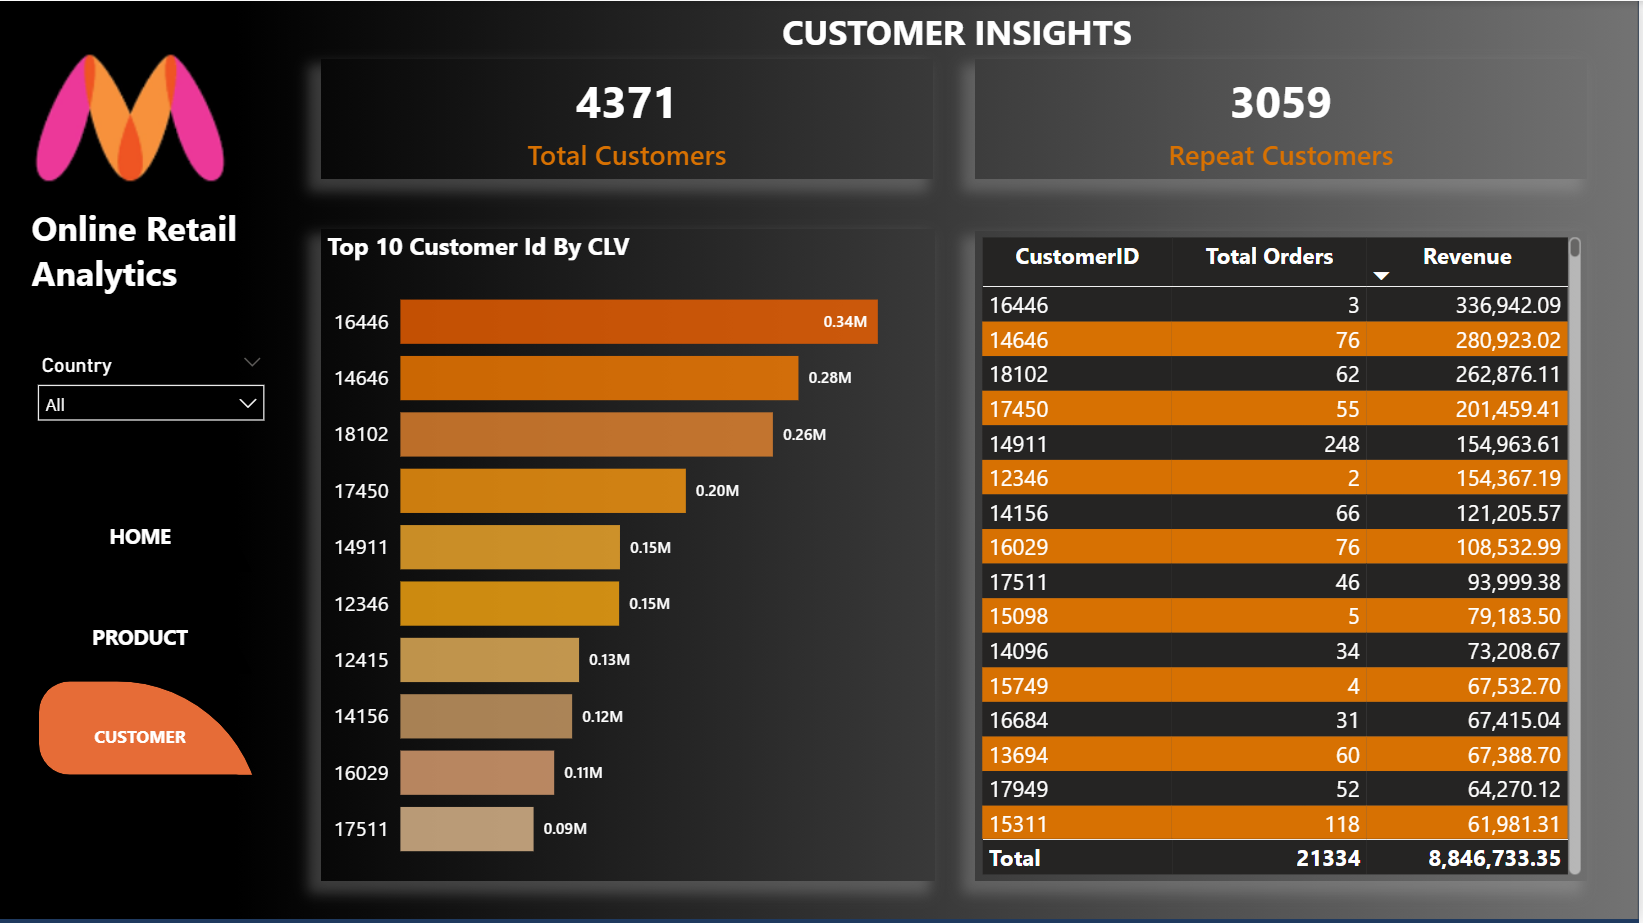

This screenshot's page, from the dashboard's own definition file:
{"tool":"powerbi","page":{"name":"CUSTOMER","canvas":[1280,720],"ordinal":2},"visuals":[{"type":"card","fields":{"Values":["MNT.Total Customers"]},"box":[251.5,45.3,477.9,93.7],"z":0},{"type":"card","fields":{"Values":["MNT.Repeat Customers"]},"box":[762.2,45.3,477.9,93.7],"z":1000},{"type":"clusteredBarChart","title":"Top 10 Customer Id  By CLV","fields":{"Category":["MNT.CustomerID"],"Y":["Sum(MNT.Sale)"]},"box":[251.5,178,479.5,509.2],"z":2000},{"type":"tableEx","title":"UK vs Non-UK Revenue","fields":{"Values":["MNT.CustomerID","MNT.Total Orders","MNT.Revenue"]},"box":[762.2,179.6,477.9,507.6],"z":3000},{"type":"slicer","fields":{"Values":["MNT.Country"]},"box":[20.3,270.2,196.8,64],"z":4000},{"type":"textbox","box":[20.3,153.1,196.8,92.1],"z":5000},{"type":"pageNavigator","box":[31.2,373.3,174.9,231.1],"z":6000},{"type":"textbox","box":[549.8,0,396.7,45.3],"z":7000},{"type":"actionButton","box":[48.4,468.5,131.2,45.3],"z":7001},{"type":"actionButton","box":[48.4,551.3,131.2,45.3],"z":7002},{"type":"actionButton","box":[48.4,390.5,131.2,45.3],"z":7003}]}

Visuals, with their boxes in screenshot pixels (x1, y1, x2, y2), scaled from the page's 1280x720 canvas onto the 1643x923 screenshot:
card - MNT.Total Customers: detection(323, 58, 936, 178)
card - MNT.Repeat Customers: detection(978, 58, 1592, 178)
"Top 10 Customer Id  By CLV" clusteredBarChart: detection(323, 228, 938, 881)
"UK vs Non-UK Revenue" tableEx: detection(978, 230, 1592, 881)
slicer - MNT.Country: detection(26, 346, 279, 428)
textbox: detection(26, 196, 279, 314)
pageNavigator: detection(40, 479, 265, 775)
textbox: detection(706, 0, 1215, 58)
actionButton: detection(62, 601, 231, 659)
actionButton: detection(62, 707, 231, 765)
actionButton: detection(62, 501, 231, 559)
